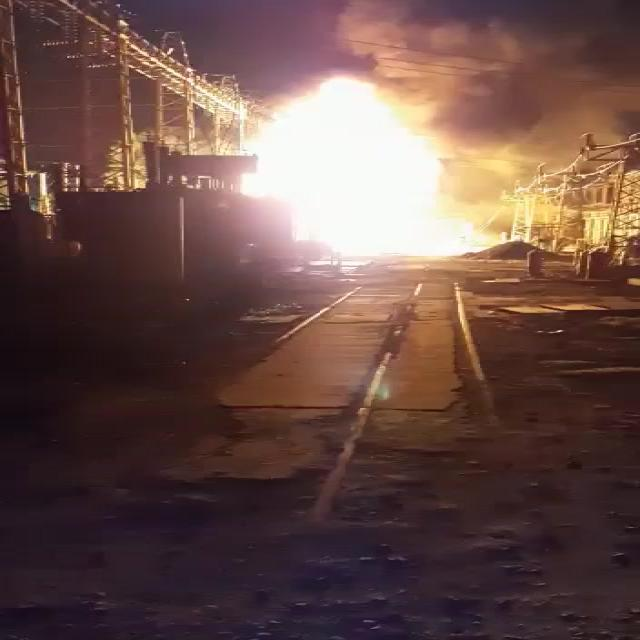firerotation: (229, 66, 509, 259)
